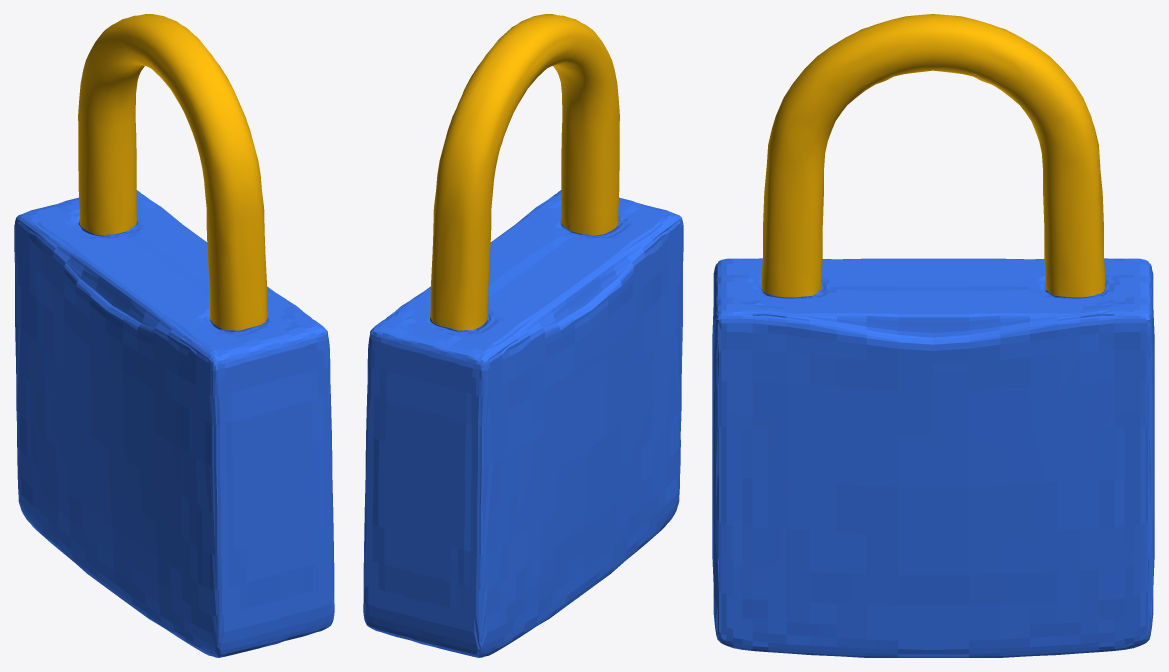
Rendered from park_lock.glb.
3 renders of one model, left to right at view 1: azimuth 30°, elevation 25°; view 2: azimuth 150°, elevation 25°; view 3: azimuth 270°, elevation 25°, orthographic. The views are drawn at different scales.
Visible parts, largest first — view 1: tripo_mesh_7804aacf, tripo_mesh_7804aacf_1; view 2: tripo_mesh_7804aacf, tripo_mesh_7804aacf_1; view 3: tripo_mesh_7804aacf, tripo_mesh_7804aacf_1.
Part boxes in pixels (left/top/right/bottom): tripo_mesh_7804aacf: left=14, top=190, right=334, bottom=657; tripo_mesh_7804aacf_1: left=78, top=14, right=267, bottom=330; tripo_mesh_7804aacf: left=363, top=190, right=683, bottom=657; tripo_mesh_7804aacf_1: left=430, top=14, right=619, bottom=330; tripo_mesh_7804aacf: left=712, top=258, right=1154, bottom=657; tripo_mesh_7804aacf_1: left=761, top=14, right=1105, bottom=297.
Size of the model in its own units: 0.131 by 0.5189 by 0.3409.
